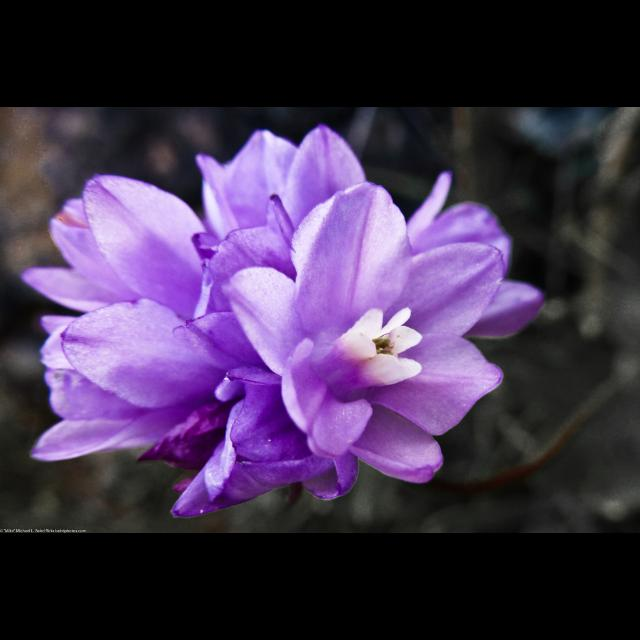Flower: (46, 153, 564, 522)
